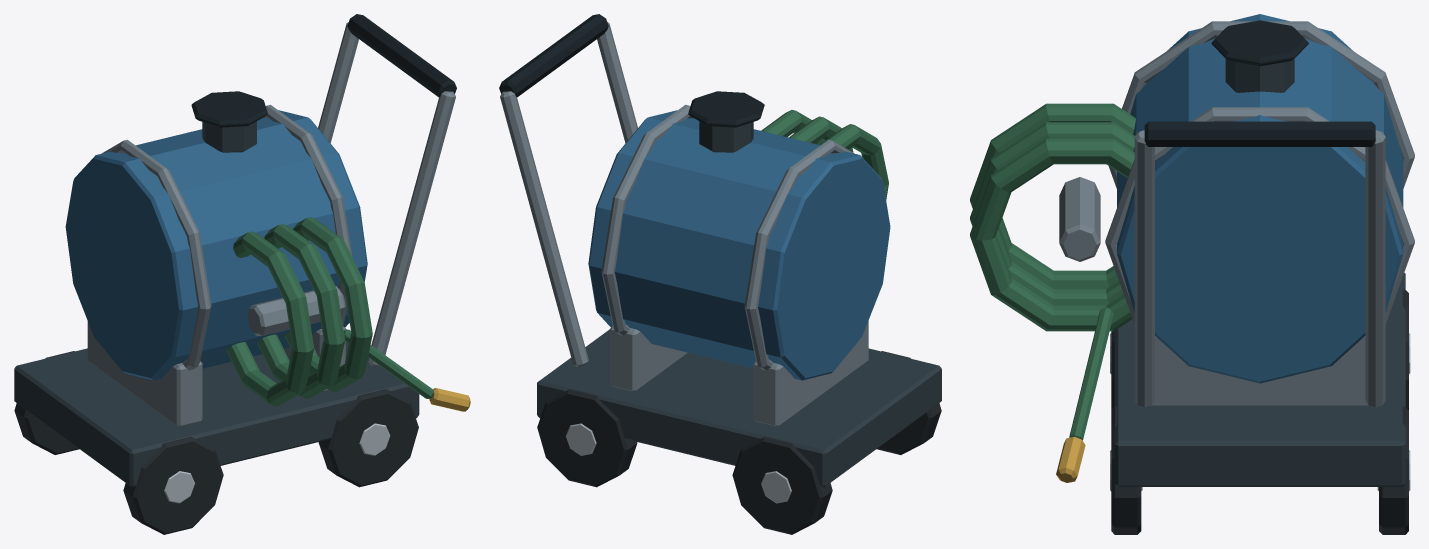
Rendered from b04_street_cleaning_water_hose_cart.glb.
3 views of the same model, side by side, from view 1: azimuth 30°, elevation 25°; view 2: azimuth 150°, elevation 25°; view 3: azimuth 270°, elevation 25° (orthographic). The views are drawn at different scales.
Parts seen in each view (by area): view 1: b04_street_cleaning_water_hose_cart; view 2: b04_street_cleaning_water_hose_cart; view 3: b04_street_cleaning_water_hose_cart.
Part boxes in pixels (box(x1,y1,x2,y2)): b04_street_cleaning_water_hose_cart: box(14, 14, 470, 534); b04_street_cleaning_water_hose_cart: box(499, 14, 941, 534); b04_street_cleaning_water_hose_cart: box(970, 14, 1414, 534).
Bounding box in the file's own units: 1.04 × 1.09 × 0.9634.
